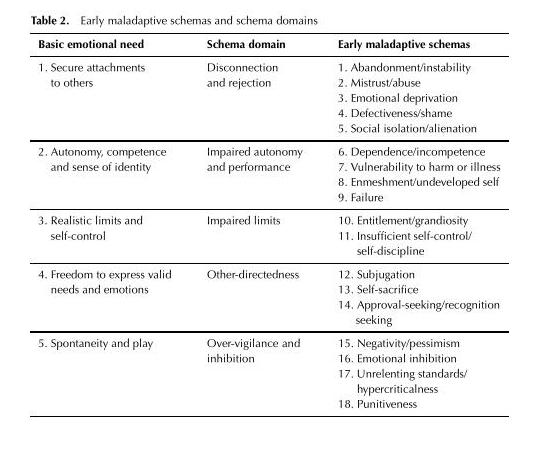table: (37, 36, 499, 409)
table column: (319, 36, 499, 409), (37, 36, 188, 409), (188, 36, 319, 409)
table column header: (37, 36, 499, 54)
table row: (37, 227, 499, 261), (37, 296, 499, 330), (37, 365, 499, 395), (37, 54, 499, 74), (37, 119, 499, 139), (37, 188, 499, 208), (37, 261, 499, 281), (37, 139, 499, 158), (37, 208, 499, 227), (37, 330, 499, 349), (37, 36, 499, 54), (37, 349, 499, 365), (37, 74, 499, 89), (37, 89, 499, 104), (37, 104, 499, 119), (37, 158, 499, 173), (37, 173, 499, 188), (37, 281, 499, 296), (37, 395, 499, 409)
table spanning cell: (37, 54, 188, 139), (37, 330, 188, 409), (188, 54, 319, 139), (37, 139, 188, 208), (37, 261, 188, 330), (188, 330, 319, 409), (188, 139, 319, 208), (188, 261, 319, 330), (37, 208, 188, 261), (188, 208, 319, 261)
